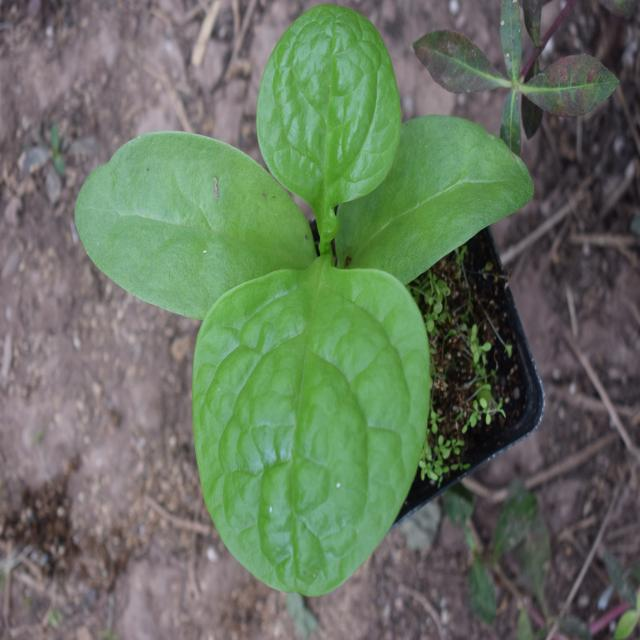Ceylon spinach: (86, 30, 448, 580)
